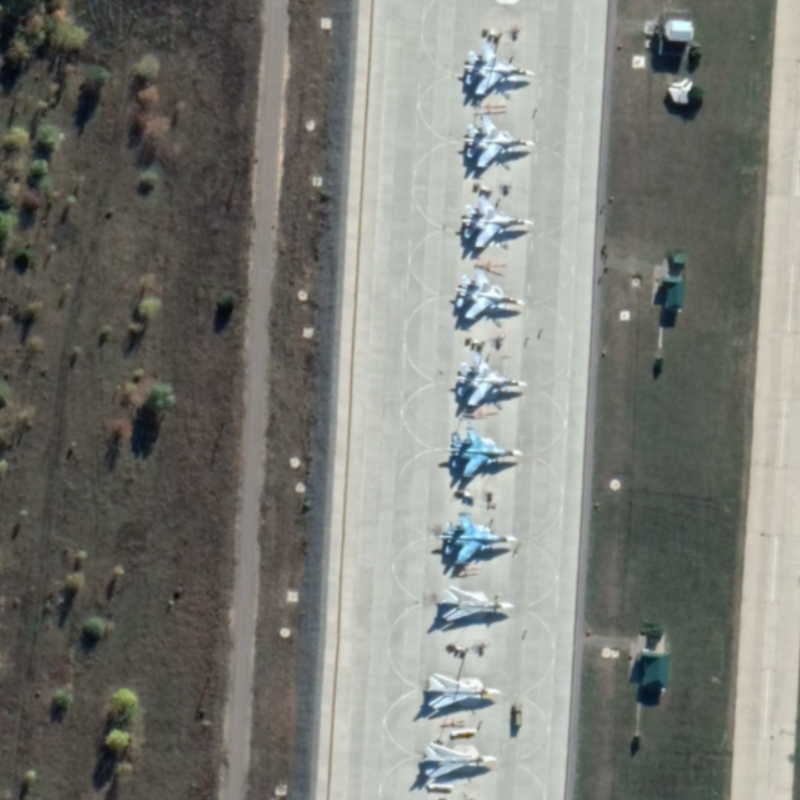A19: (437, 510, 520, 567), (454, 348, 529, 409), (460, 192, 536, 251), (445, 425, 525, 481), (461, 37, 536, 96), (461, 112, 537, 170), (454, 265, 527, 321)
A20: (426, 671, 504, 711), (422, 739, 500, 779), (440, 583, 516, 624)
